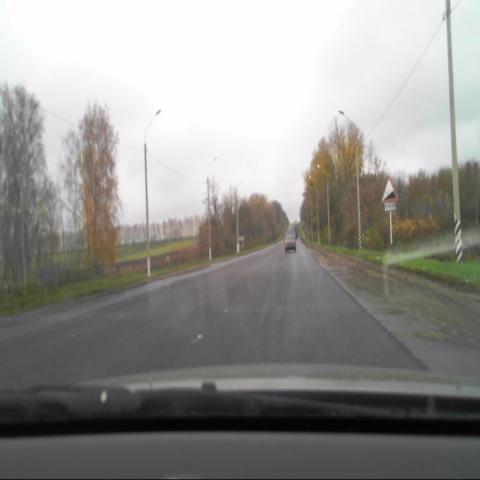1_14: (382, 175, 398, 203)
